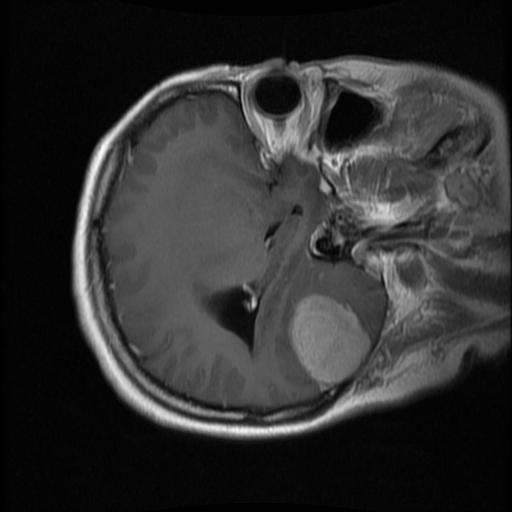meningioma: (286, 292, 370, 388)
